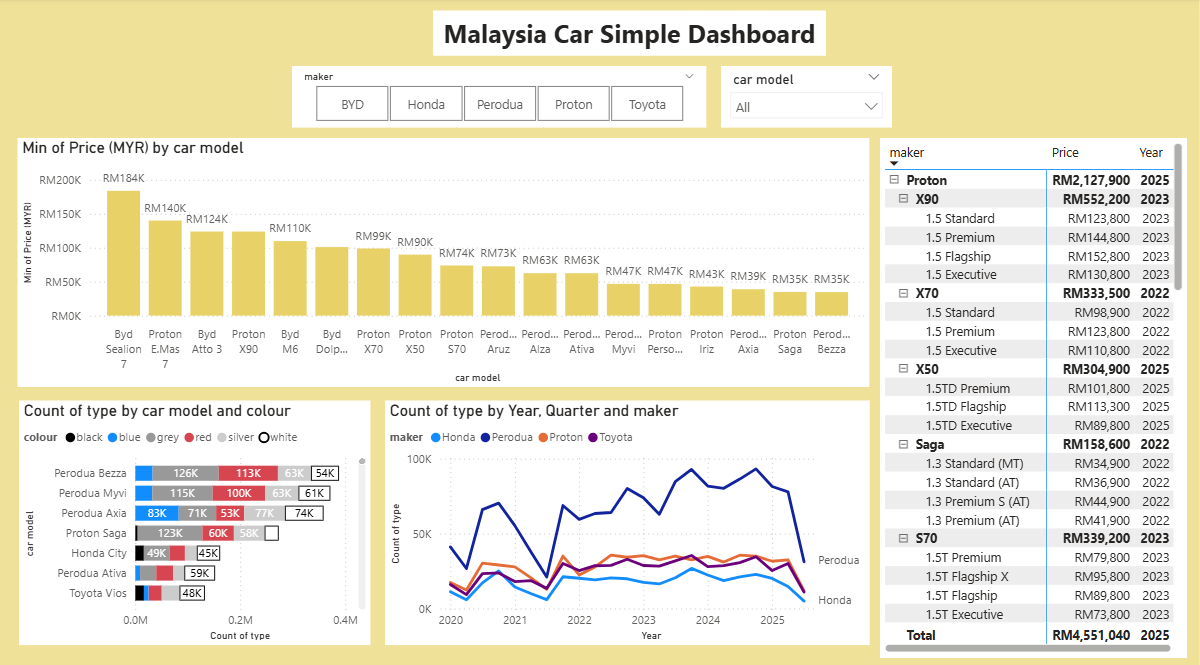

The page's visual inventory and layout, read from the dashboard file:
{"tool":"powerbi","page":{"name":"Answer Page","canvas":[1280,720],"ordinal":1},"visuals":[{"type":"textbox","box":[364.4,7.8,558.9,55.6],"z":0},{"type":"barChart","fields":{"Category":["dimcar.car model"],"Y":["CountNonNull(cars.model)"],"Series":["cars.colour"]},"box":[12.2,403.3,496.7,308.9],"z":1000},{"type":"columnChart","fields":{"Category":["dimcar.car model"],"Y":["Min(car_price.Price (MYR))"]},"box":[12.2,142.2,946.7,248.9],"z":2000},{"type":"slicer","fields":{"Values":["dimcar.maker"]},"box":[333.3,66.8,426.7,72.2],"z":3000},{"type":"slicer","fields":{"Values":["dimcar.car model"]},"box":[777.8,66.8,192.2,72.2],"z":4000},{"type":"lineChart","fields":{"Category":["cars.date_reg.Variation.Date Hierarchy.Year","cars.date_reg.Variation.Date Hierarchy.Quarter","cars.date_reg.Variation.Date Hierarchy.Month","cars.date_reg.Variation.Date Hierarchy.Day"],"Y":["CountNonNull(cars.model)"],"Series":["dimcar.maker"]},"box":[521.1,403.3,437.8,308.9],"z":5000},{"type":"pivotTable","fields":{"Rows":["dimcar.maker","dimcar.model","car_price.Variant"],"Values":["Sum(car_price.Price (MYR))","Max(car_price.Release Year)"]},"box":[973.3,142.2,296.7,570],"z":6000}]}

Visuals, with their boxes in screenshot pixels (x1, y1, x2, y2), scaled from the page's 1280x720 canvas onto the 1200x665 screenshot:
textbox: rect(342, 7, 866, 59)
barChart - dimcar.car model x CountNonNull(cars.model): rect(11, 372, 477, 658)
columnChart - dimcar.car model x Min(car_price.Price (MYR)): rect(11, 131, 899, 361)
slicer - dimcar.maker: rect(312, 62, 712, 128)
slicer - dimcar.car model: rect(729, 62, 909, 128)
lineChart - cars.date_reg.Variation.Date Hierarchy.Year x cars.date_reg.Variation.Date Hierarchy.Quarter: rect(489, 372, 899, 658)
pivotTable - dimcar.maker x dimcar.model: rect(912, 131, 1191, 658)
